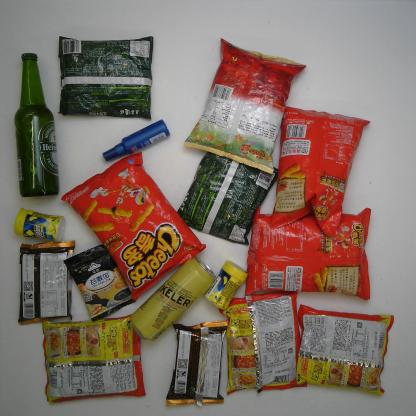Alcohol: (131, 254, 217, 344), (13, 52, 61, 199)
Dessert: (164, 320, 230, 408), (16, 240, 77, 326)
Gum: (203, 258, 250, 312), (10, 207, 70, 245)
Instant Drink: (63, 242, 137, 322)
Instant Noodles: (172, 147, 285, 247), (293, 303, 396, 398), (218, 288, 308, 396), (43, 312, 147, 405), (56, 33, 158, 121)
Personal Hygiene: (102, 118, 172, 162)
Puffed Food: (61, 149, 208, 302), (182, 36, 307, 175), (269, 106, 371, 238), (244, 207, 372, 302)
